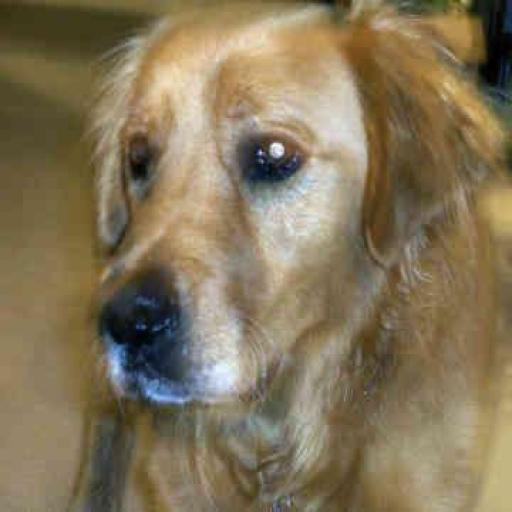dog_face: (81, 32, 465, 400)
